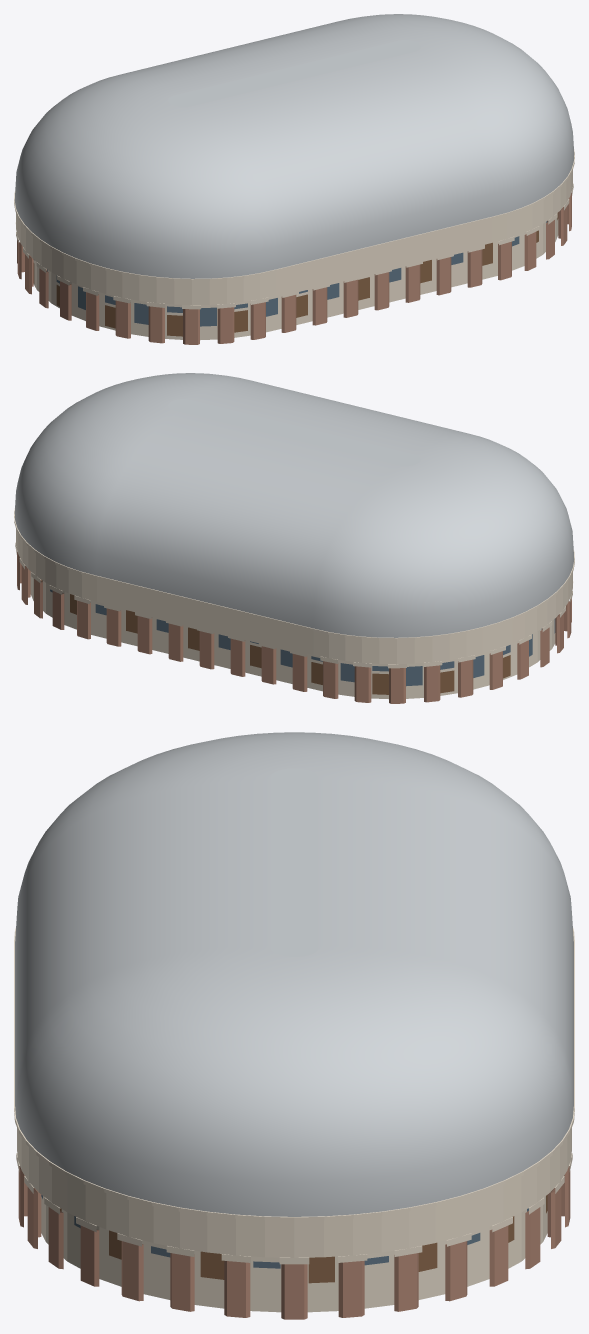
Rendered from slc-salt-lake-tabernacle.glb.
The picture shows the model from 3 angles, top to bottom: view 1: azimuth 30°, elevation 25°; view 2: azimuth 150°, elevation 25°; view 3: azimuth 270°, elevation 25°; orthographic projection. The views are drawn at different scales.
Parts seen in each view (by area): view 1: Salt Lake Tabernacle; view 2: Salt Lake Tabernacle; view 3: Salt Lake Tabernacle.
Boxes of the visible parts, left/top/right/bottom form: Salt Lake Tabernacle: left=14, top=14, right=574, bottom=344; Salt Lake Tabernacle: left=14, top=373, right=574, bottom=703; Salt Lake Tabernacle: left=14, top=732, right=574, bottom=1319.
Bounding box in the file's own units: 79.6 × 25.49 × 48.8.
